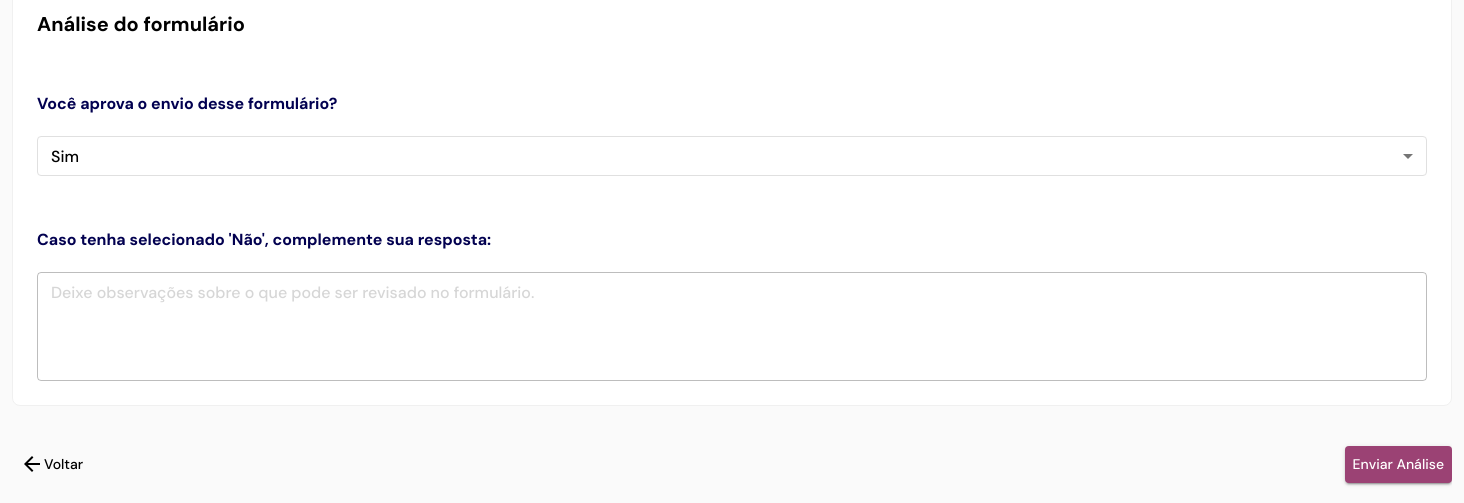
Scenario: FormAnalysisBox › enables comment field when approval is Não
Expected: the text box with placeholder "Deixe observações sobre o que pode ser revisado no formulário." is disabled, [51,280,1413,372]
Press the mouse on the dropdown: [65, 156] box [51,146,79,166]
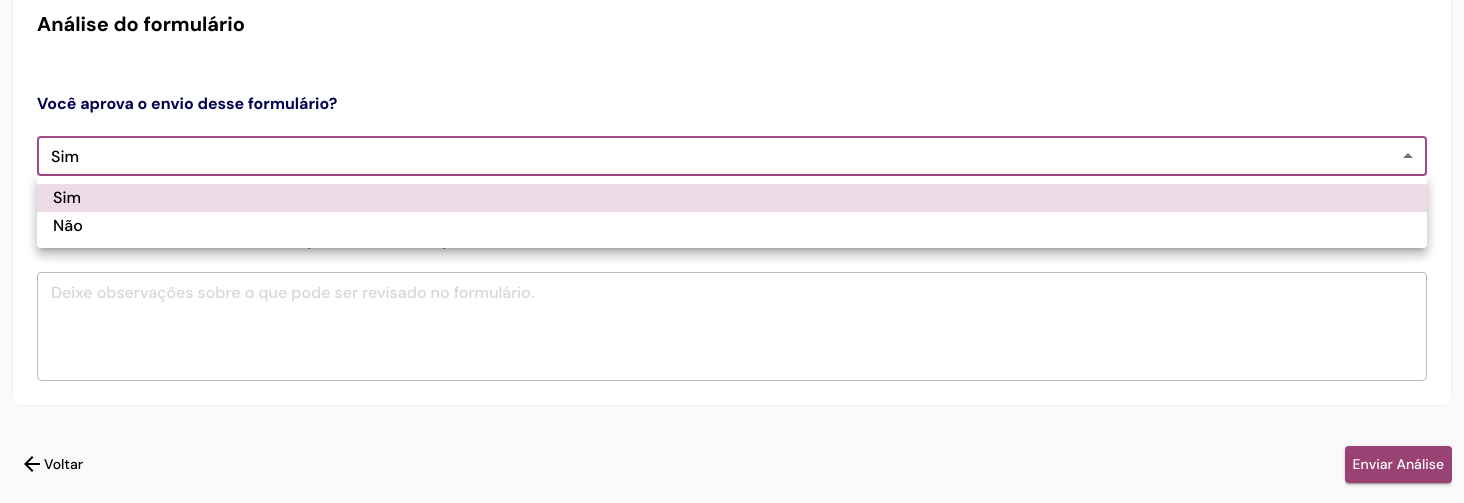
Click the option "Não": [68, 226] box [53,215,83,236]
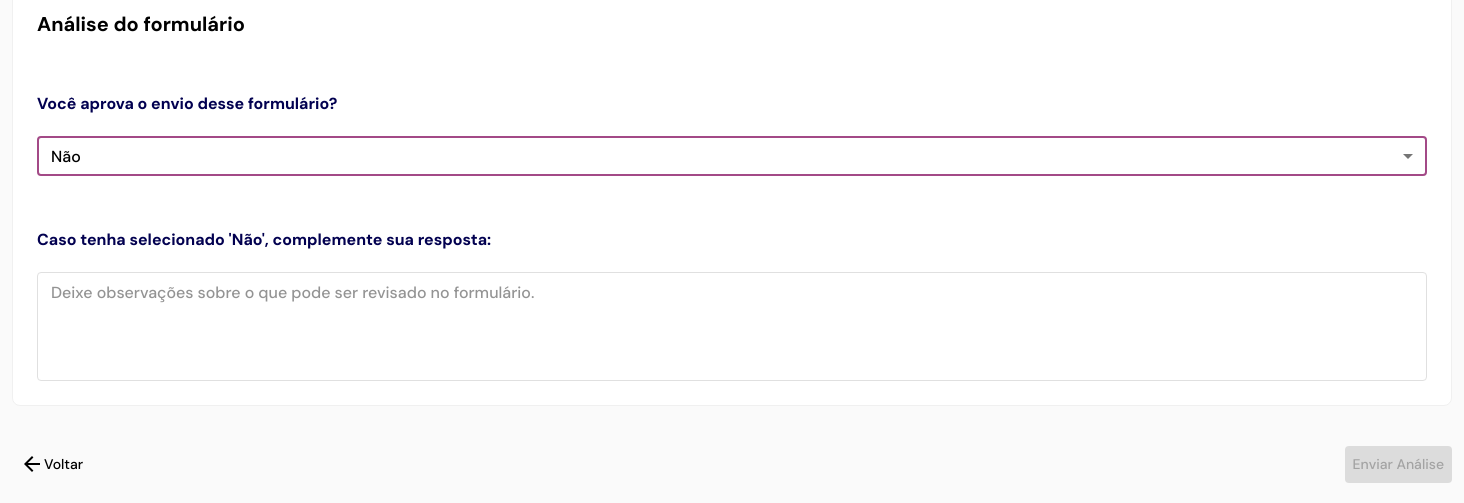
Result: the text box with placeholder "Deixe observações sobre o que pode ser revisado no formulário." is enabled at [51,280,1413,372]
